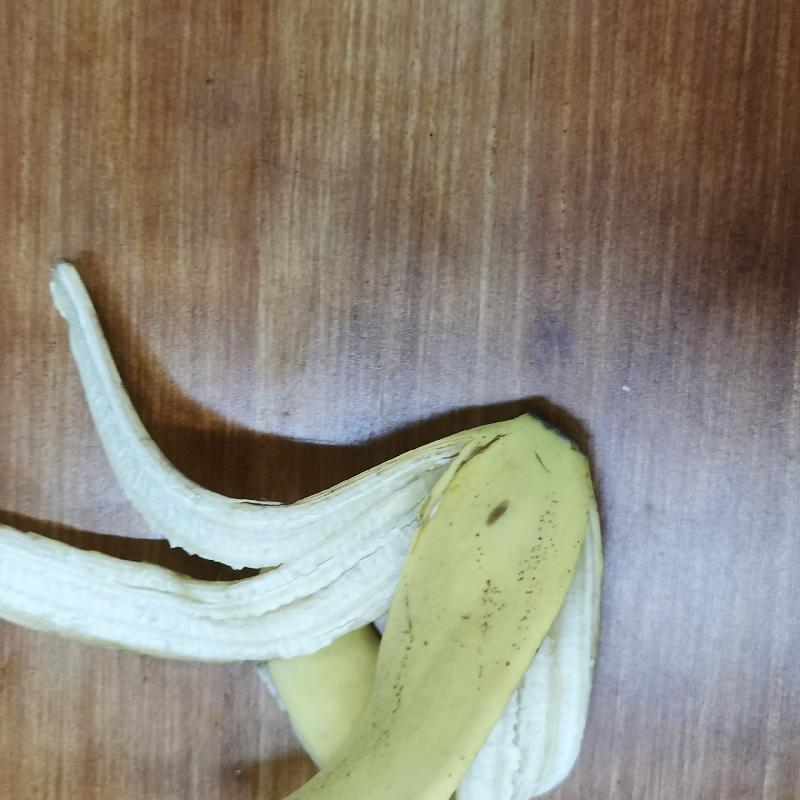bananas: (0, 246, 599, 800)
